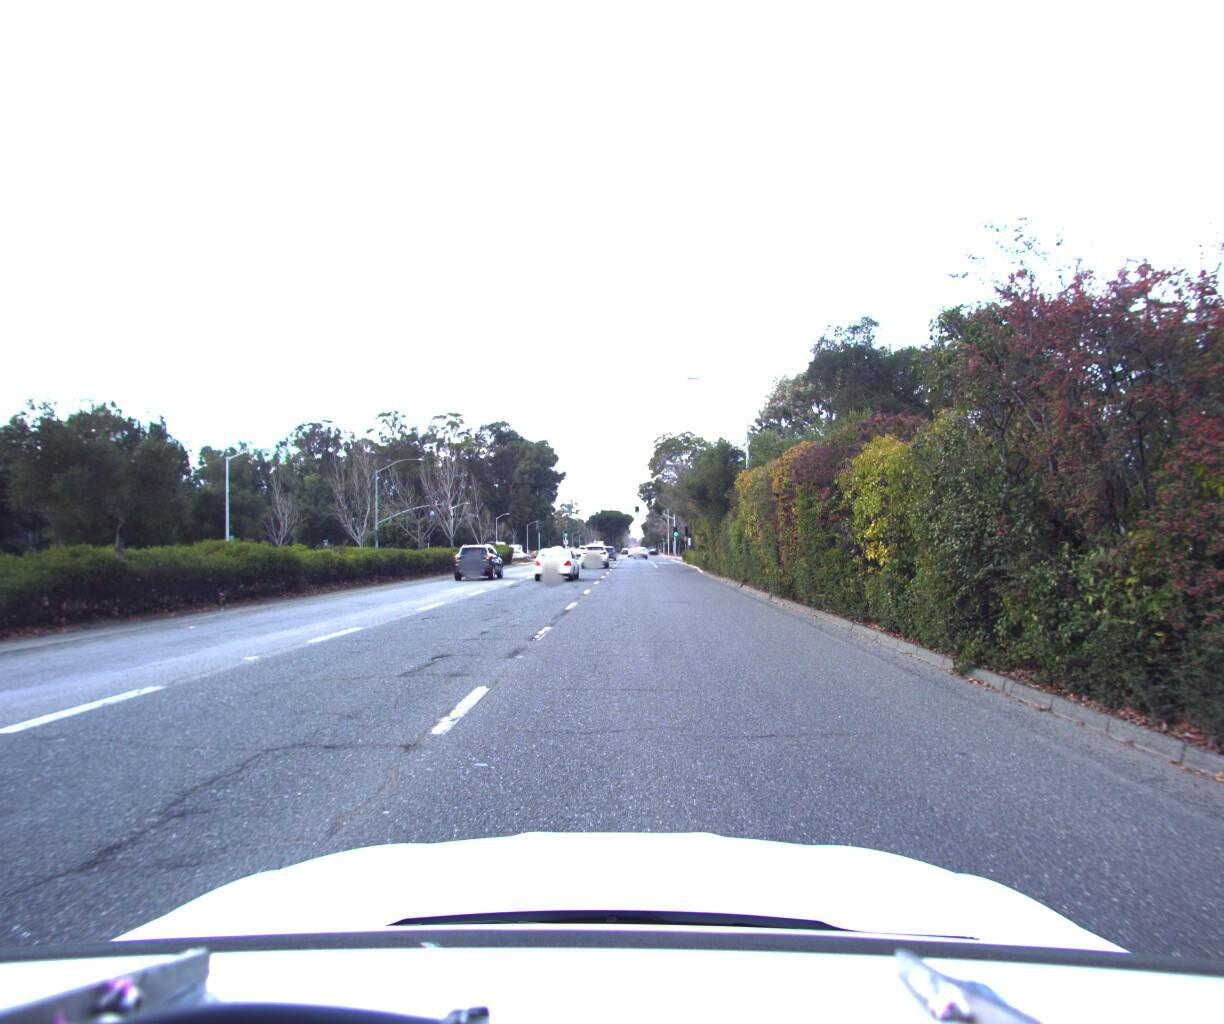car: (454, 537, 509, 577), (532, 536, 582, 578), (579, 540, 608, 565)
